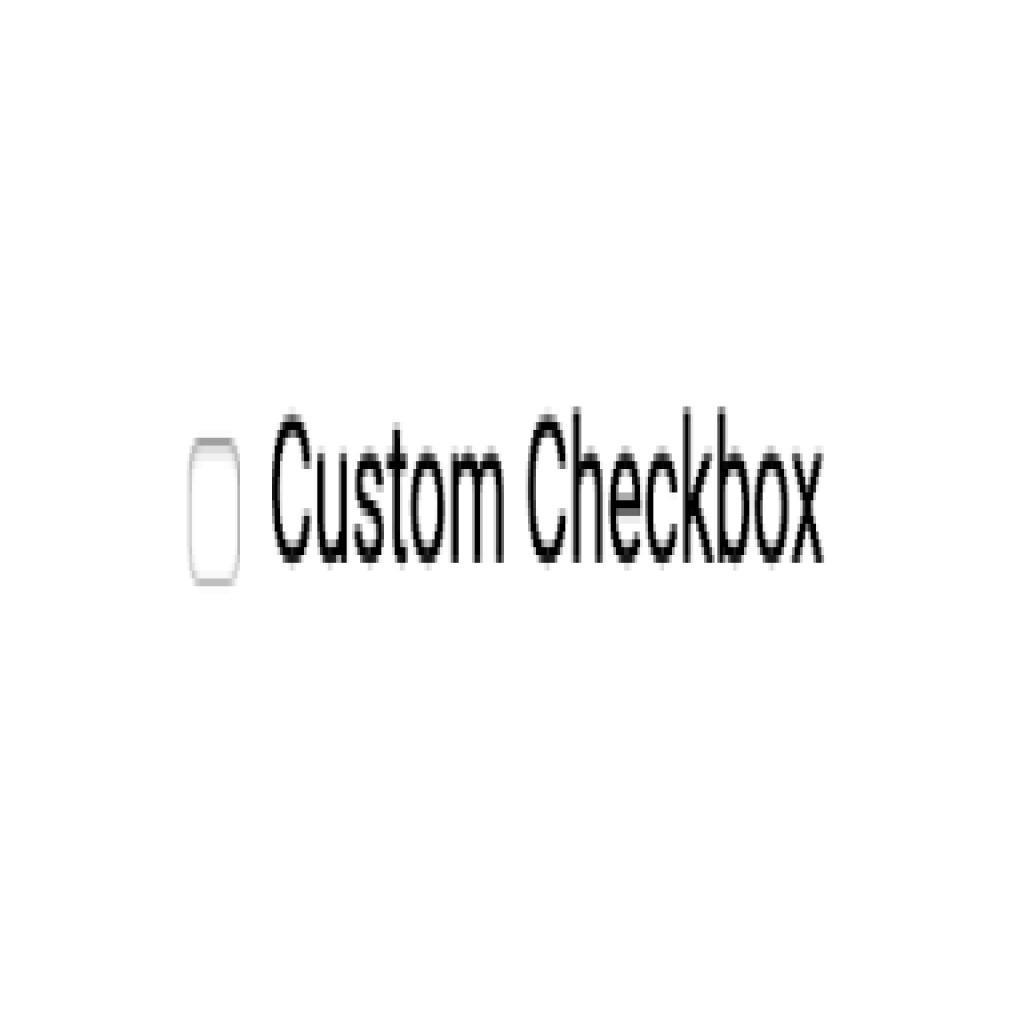checkbox: (193, 440, 240, 582)
label: (269, 406, 830, 578)
